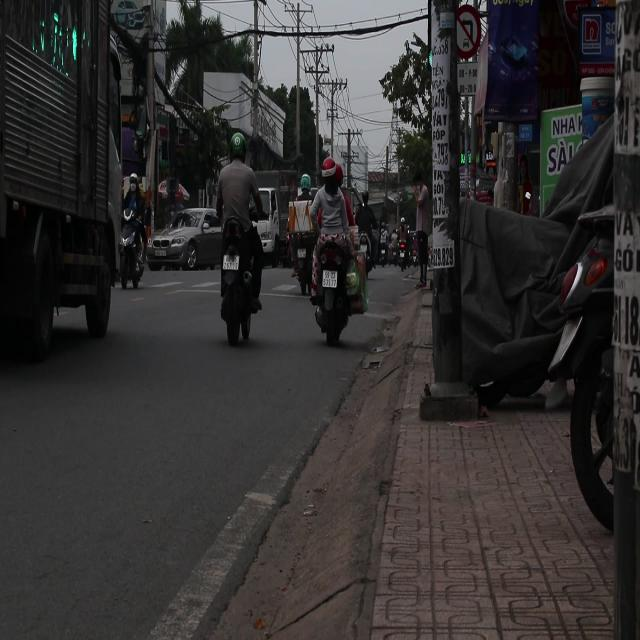car: (145, 206, 221, 272)
motorbike: (543, 169, 638, 562), (309, 233, 365, 346), (220, 214, 260, 352), (120, 209, 148, 290)
truck: (0, 0, 160, 358), (254, 173, 296, 268)
